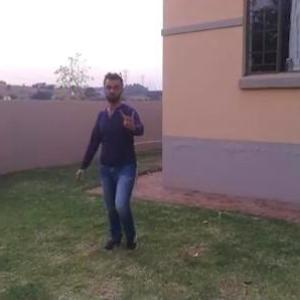takeoff-hand: (118, 102, 140, 135)
